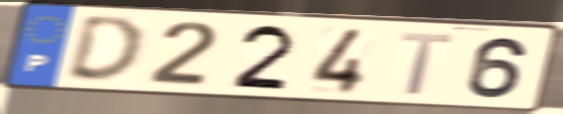2: (146, 20, 223, 89), (230, 23, 297, 93)
4: (307, 25, 369, 96)
6: (465, 34, 530, 101)
D: (62, 14, 147, 86)
T: (396, 29, 458, 97)
